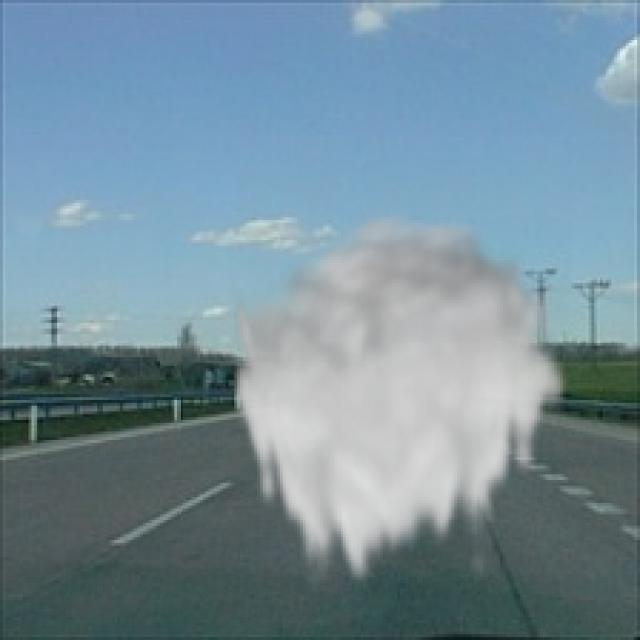smoke: (228, 206, 572, 597)
